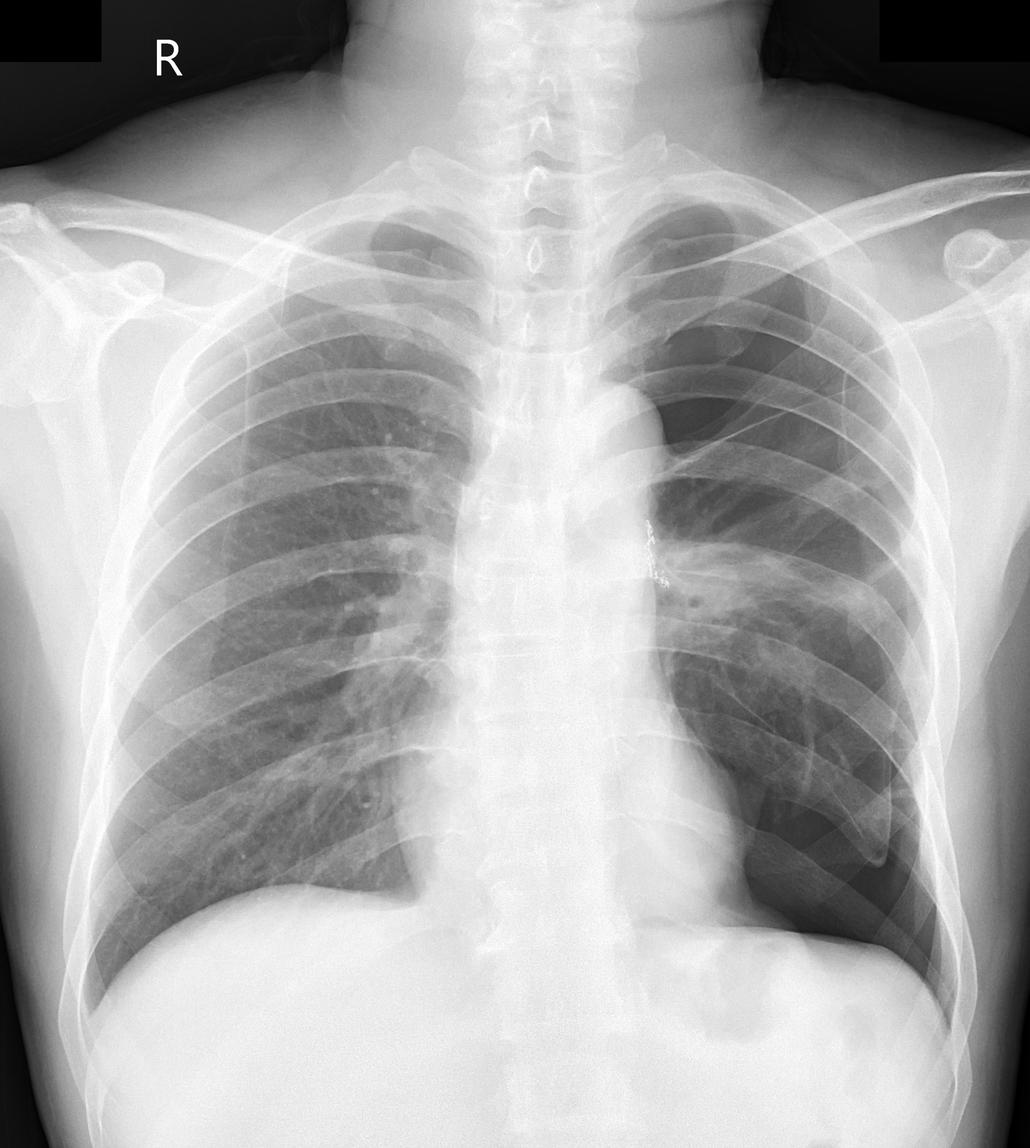Pulmonary fibrosis: (674, 547, 880, 626)
